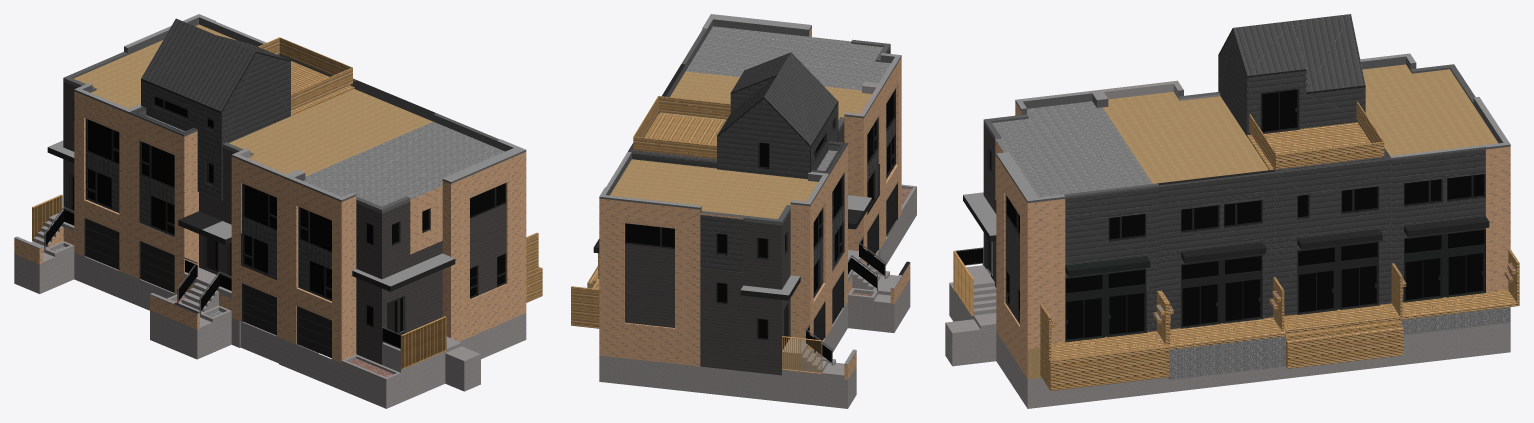
3 renders of one model, left to right at view 1: azimuth 30°, elevation 25°; view 2: azimuth 150°, elevation 25°; view 3: azimuth 270°, elevation 25°, orthographic. The views are drawn at different scales.
Parts seen in each view (by area): view 1: Object002, Object003; view 2: Object002, Object003; view 3: Object002, Object003.
Part boxes in pixels (x1,y1,x2,y2): Object002: (14, 14, 435, 367); Object003: (286, 113, 542, 408); Object002: (571, 52, 910, 408); Object003: (681, 14, 916, 265); Object002: (1097, 14, 1519, 393); Object003: (945, 90, 1169, 408).
Bounding box in the file's own units: 822 × 583 × 1057.
29 materials, 22 textured.
